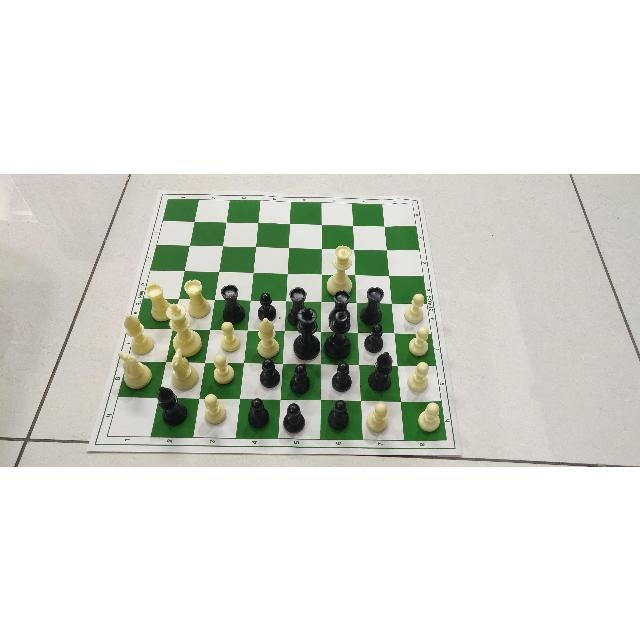black-bishop: (155, 386, 188, 424), (367, 351, 392, 391)
black-king: (292, 305, 322, 359)
black-pawn: (247, 396, 271, 429), (282, 402, 306, 434), (327, 398, 349, 429), (290, 363, 311, 395), (259, 358, 280, 387), (332, 361, 352, 391), (364, 323, 383, 352), (257, 291, 276, 318)
black-queen: (322, 306, 351, 361)
black-rook: (359, 284, 385, 325), (220, 283, 246, 323), (286, 285, 309, 326), (328, 288, 352, 325)
white-bishop: (122, 313, 156, 355), (257, 317, 280, 356)
white-king: (164, 301, 202, 357)
white-knight: (117, 350, 152, 390), (170, 346, 199, 391)
white-pawn: (406, 359, 432, 392), (202, 391, 227, 425), (211, 353, 236, 385), (366, 400, 390, 433), (403, 291, 427, 324), (218, 319, 242, 352), (407, 324, 431, 356), (418, 401, 440, 432), (408, 326, 429, 356)
white-queen: (326, 243, 354, 296)
white-rook: (183, 277, 211, 319), (144, 282, 172, 322)
